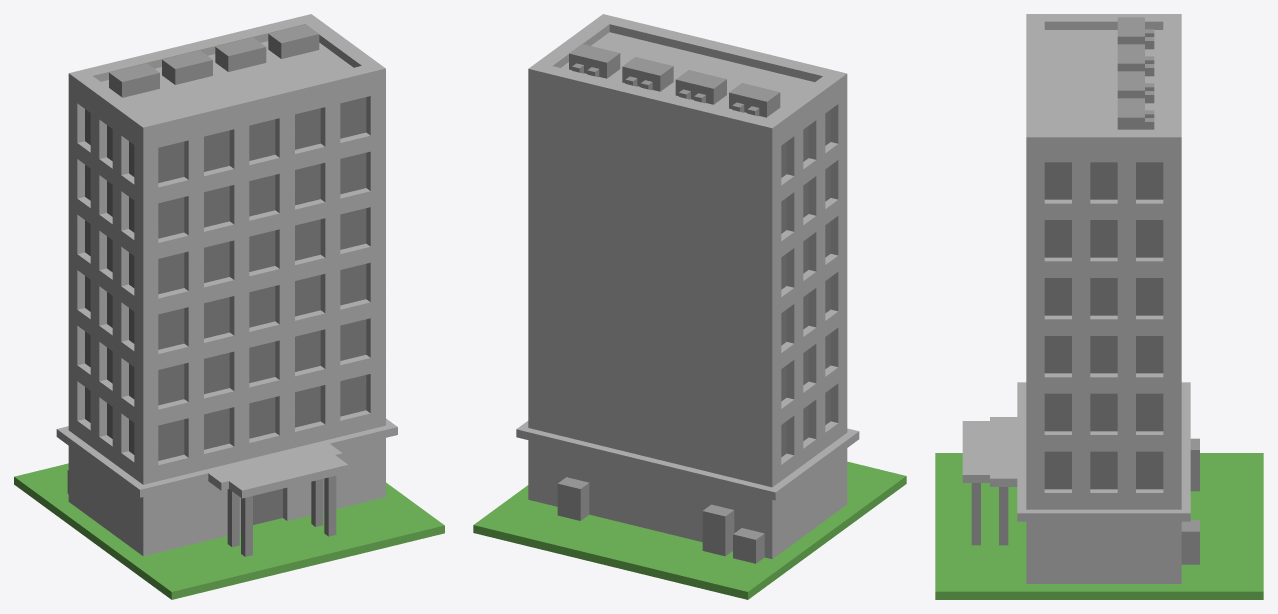
The picture shows the model from 3 angles, left to right: view 1: azimuth 30°, elevation 25°; view 2: azimuth 150°, elevation 25°; view 3: azimuth 270°, elevation 25°; orthographic projection. The views are drawn at different scales.
Parts seen in each view (by area): view 1: 7; view 2: 7; view 3: 7.
Boxes of the visible parts, <box> form: 7: <box>14,14,444,599</box>; 7: <box>473,14,906,599</box>; 7: <box>935,14,1263,599</box>.
Bounding box in the file's own units: 900 × 1400 × 900.
